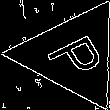P_NE: (37, 26, 108, 83)
